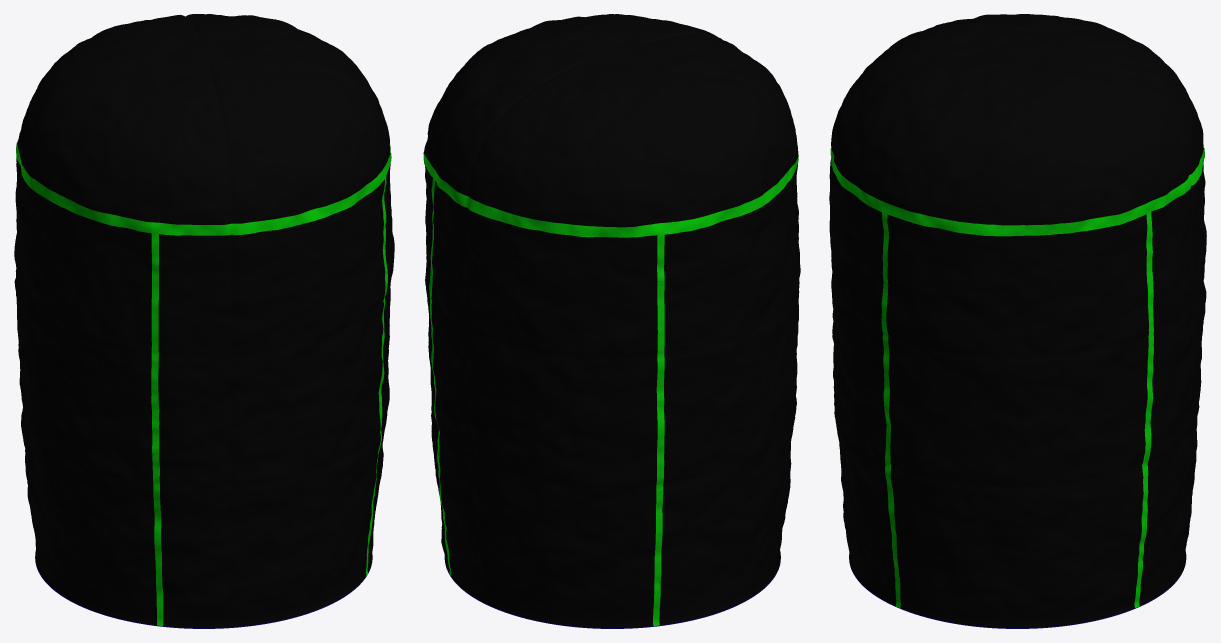
The model's file is lantern.glb.
The picture shows the model from 3 angles, left to right: view 1: azimuth 30°, elevation 25°; view 2: azimuth 150°, elevation 25°; view 3: azimuth 270°, elevation 25°; orthographic projection.
Visible parts, largest first — view 1: lantern_lod0; view 2: lantern_lod0; view 3: lantern_lod0.
Part boxes in pixels (bbox=[...]): lantern_lod0: bbox=[14, 14, 394, 628]; lantern_lod0: bbox=[423, 14, 800, 628]; lantern_lod0: bbox=[829, 14, 1206, 628].
Size of what is drawn, in the model's own units: 0.6794 by 1.06 by 0.6776.
